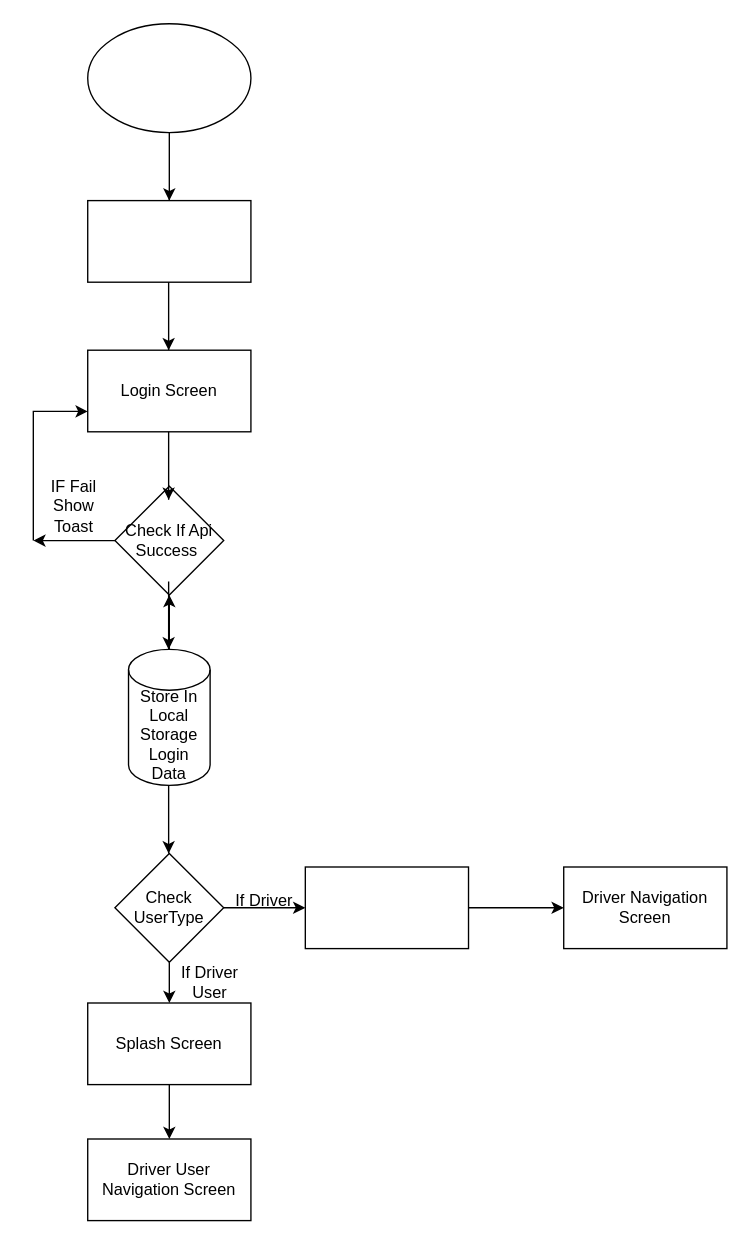
Image size: 751x1244. Some labels were removed from this diagram. Each missing label, with the centre of its shape:
"Spalsh Screen" belongs at pixel 386 907.
"SplashScreen" belongs at pixel 168 240.
"Start" belongs at pixel 168 77.
